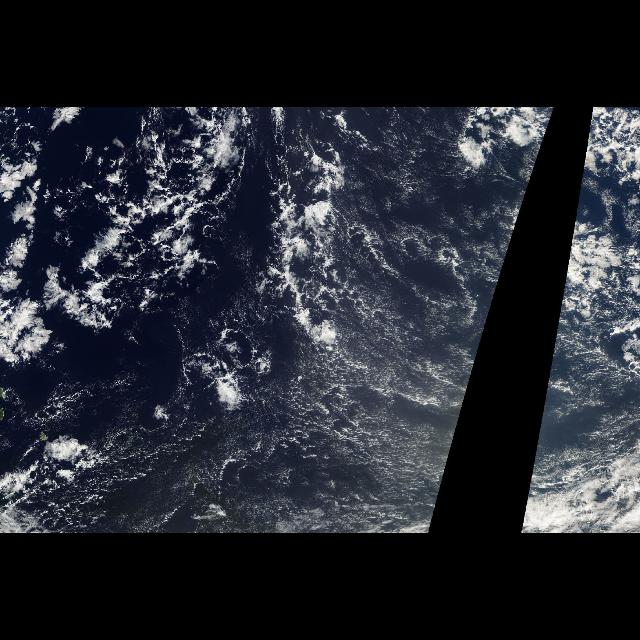Fish: (96, 108, 278, 364)
Gravel: (168, 110, 554, 300), (559, 110, 615, 300)
Sugar: (120, 184, 512, 534), (520, 235, 640, 533)
